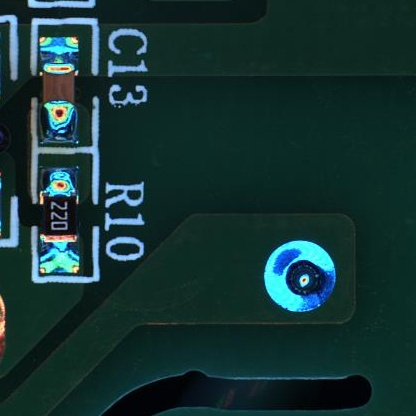spot: (263, 239, 336, 314)
